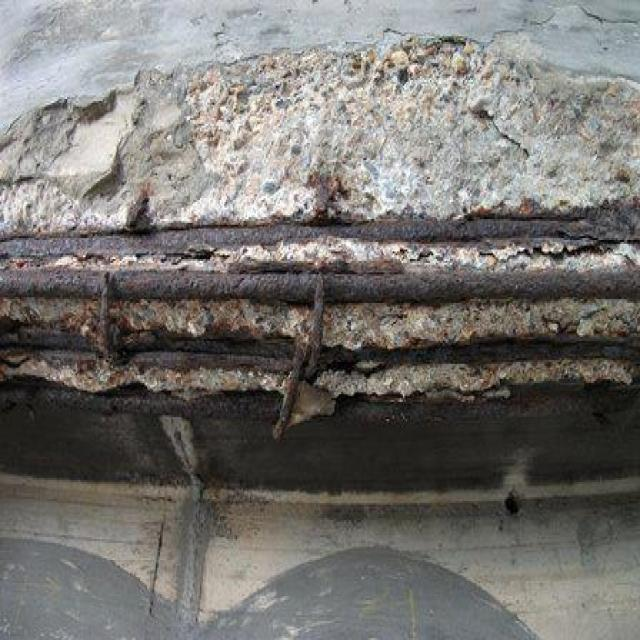Rebar: (0, 34, 639, 412)
